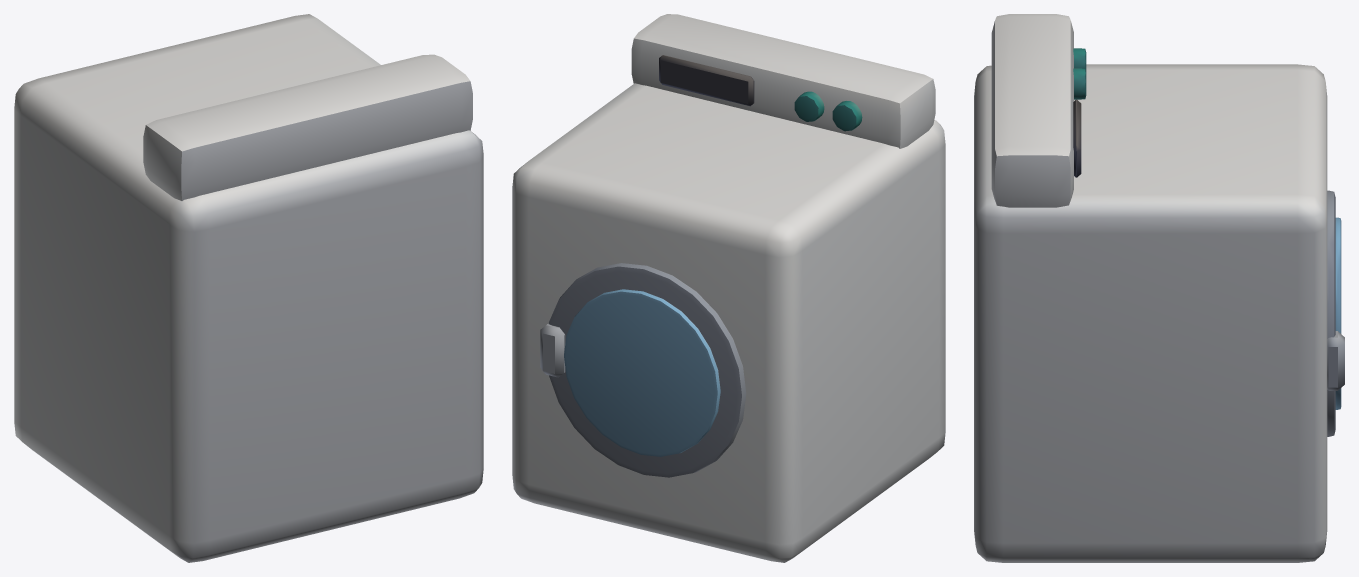
File: Washer.fbx
3 views of the same model, side by side, from view 1: azimuth 30°, elevation 25°; view 2: azimuth 150°, elevation 25°; view 3: azimuth 270°, elevation 25° (orthographic). The views are drawn at different scales.
Visible parts, largest first — view 1: SM_Prop_Washer; view 2: SM_Prop_Washer, SM_Prop_Washer_Glass; view 3: SM_Prop_Washer, SM_Prop_Washer_Glass.
Boxes of the visible parts, <box> form: SM_Prop_Washer: <box>14,14,483,562</box>; SM_Prop_Washer: <box>512,14,945,562</box>; SM_Prop_Washer_Glass: <box>564,289,720,456</box>; SM_Prop_Washer: <box>974,14,1344,562</box>; SM_Prop_Washer_Glass: <box>1335,217,1341,409</box>.
Size of the model in its own units: 3 by 3.88 by 3.15.
